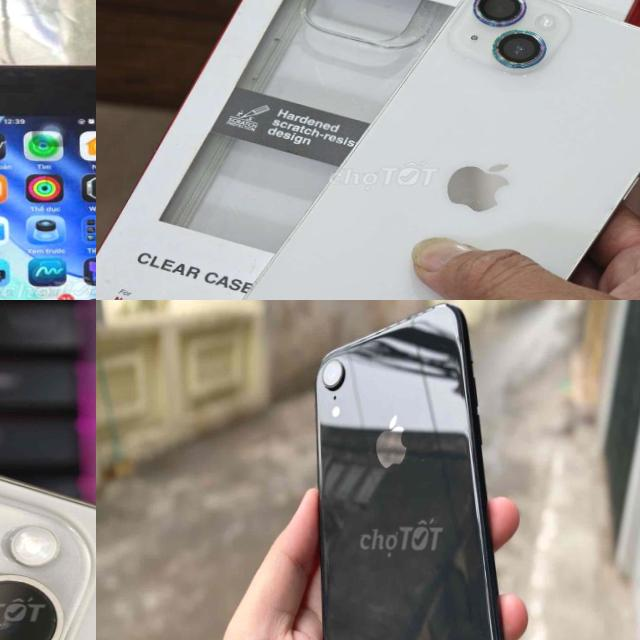gen_14: (241, 0, 640, 300)
gen_15: (0, 428, 96, 640)
gen_7_8: (0, 55, 96, 300)
gen_x_xs: (316, 304, 501, 640)
scratch: (0, 472, 65, 640)
